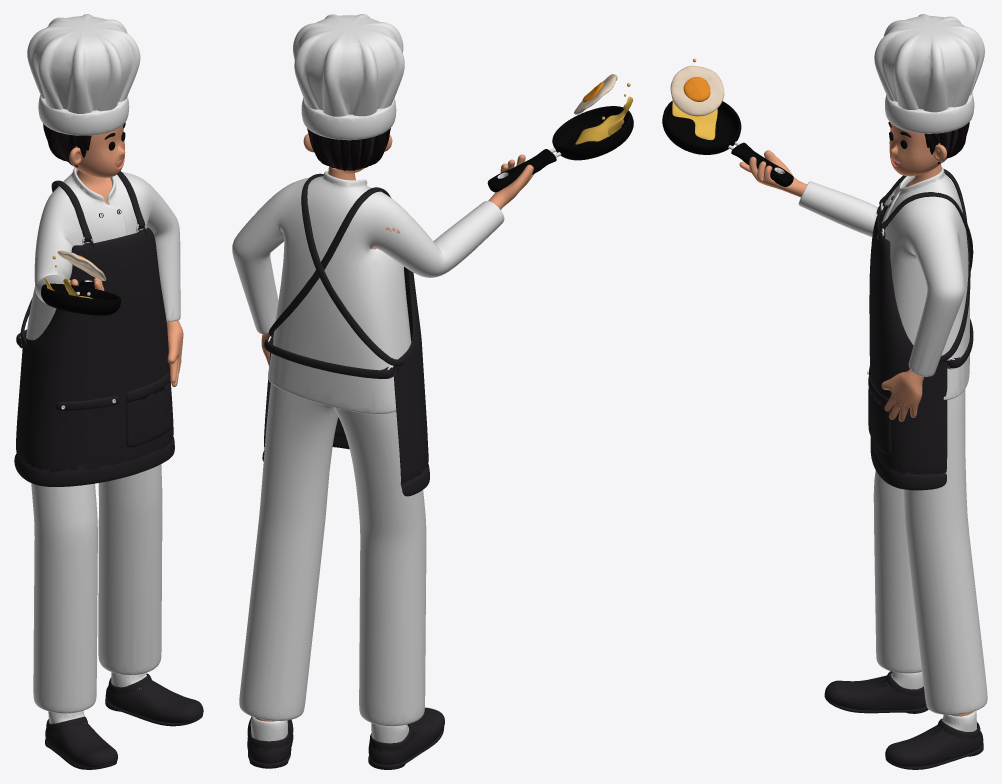
File: cooking_egg.glb
The picture shows the model from 3 angles, left to right: view 1: azimuth 30°, elevation 25°; view 2: azimuth 150°, elevation 25°; view 3: azimuth 270°, elevation 25°; orthographic projection. The views are drawn at different scales.
Visible parts, largest first — view 1: Yarn Fabric; view 2: Yarn Fabric; view 3: Yarn Fabric.
Boxes of the visible parts, left/top/right/bottom form: Yarn Fabric: left=14, top=14, right=203, bottom=769; Yarn Fabric: left=232, top=14, right=633, bottom=769; Yarn Fabric: left=662, top=14, right=987, bottom=769.
Size of the model in its own units: 0.7686 by 2.02 by 0.8555.
1 material, 1 textured.
